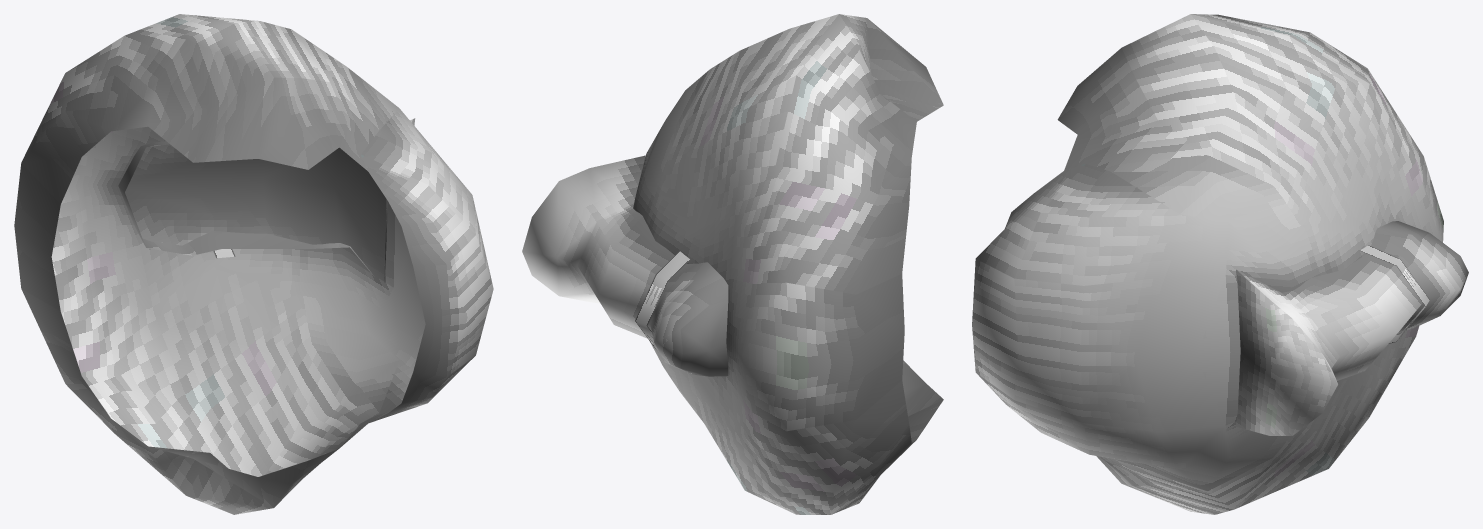
The model's file is hlmt_wig_ooichou.dae.
The picture shows the model from 3 angles, left to right: view 1: azimuth 30°, elevation 25°; view 2: azimuth 150°, elevation 25°; view 3: azimuth 270°, elevation 25°; orthographic projection.
Parts seen in each view (by area): view 1: hlmt_wig_ooichou; view 2: hlmt_wig_ooichou; view 3: hlmt_wig_ooichou.
Boxes of the visible parts, x1=… form: hlmt_wig_ooichou: x1=14, y1=14, x2=493, y2=514; hlmt_wig_ooichou: x1=522, y1=14, x2=943, y2=514; hlmt_wig_ooichou: x1=972, y1=14, x2=1468, y2=514.
Size of the model in its own units: 22.79 by 28.89 by 26.15.
2 materials, 2 textured.
